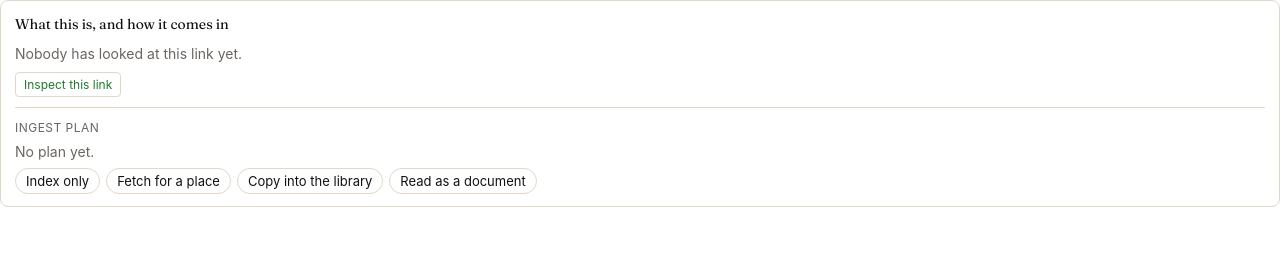
it: the ingest plan › saves the plan an admin picks, and says which one
This screenshot has width=1280, height=254.
Click the button with test id "plan-fetch-on-demand". click: (169, 180)
box: [106,168,231,194]
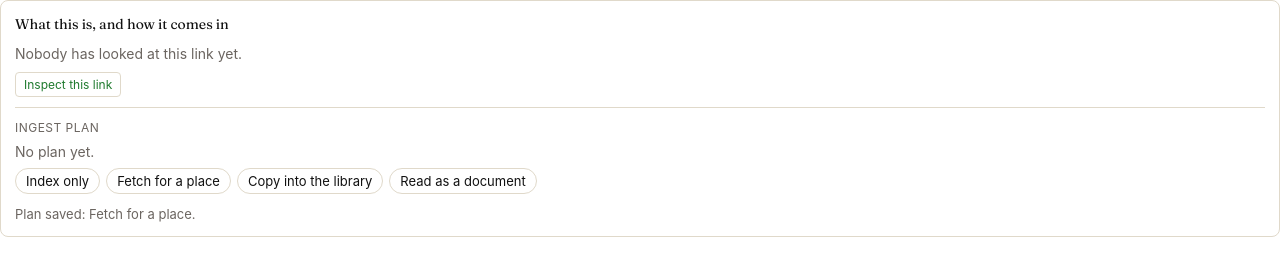
Check: the text with test id "ingest-note" reads "Plan saved: Fetch for a place.", box [15,206,196,222]
